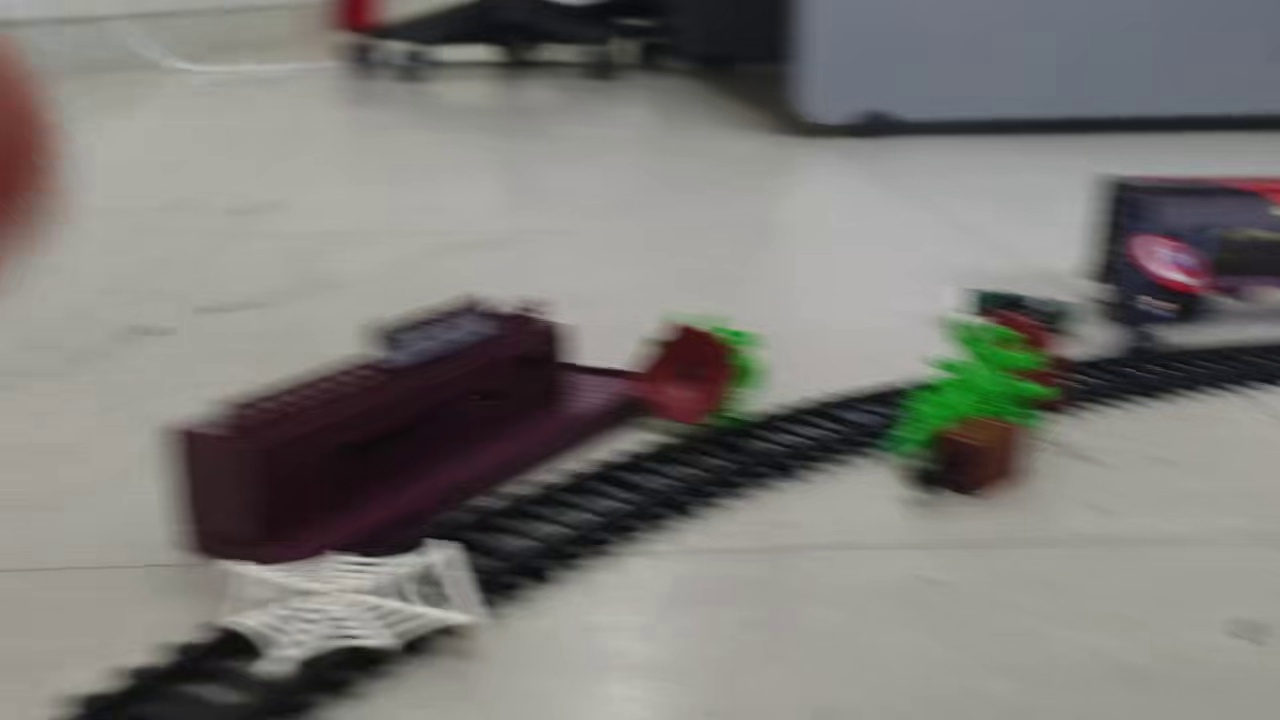box: (898, 412, 1030, 498)
people: (1098, 225, 1250, 344)
tree: (880, 287, 1080, 460), (637, 318, 771, 432)
web: (202, 536, 496, 682)
